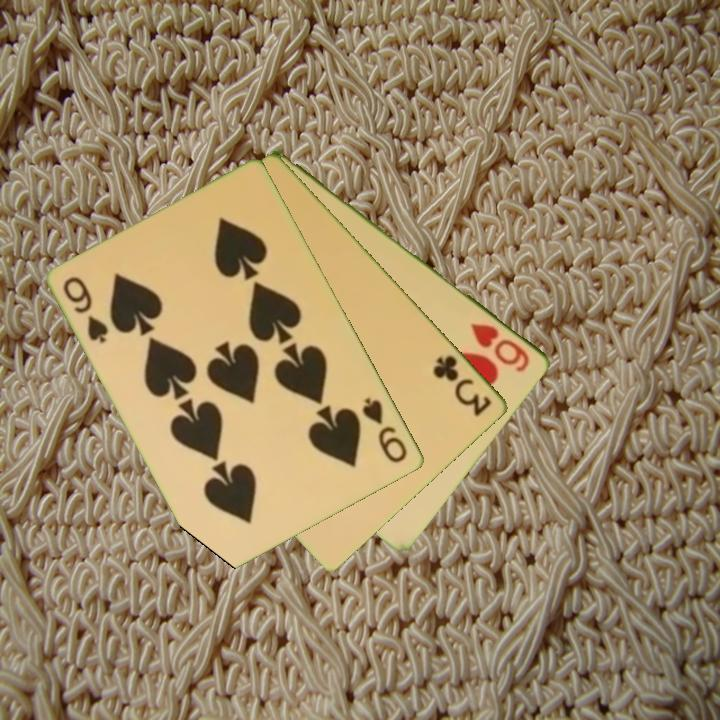3c: (429, 351, 496, 420)
6h: (467, 319, 534, 375)
9s: (60, 273, 112, 346), (359, 394, 411, 466)
